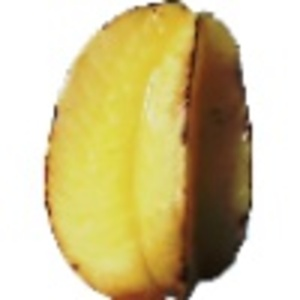carambola: (41, 1, 255, 300)
